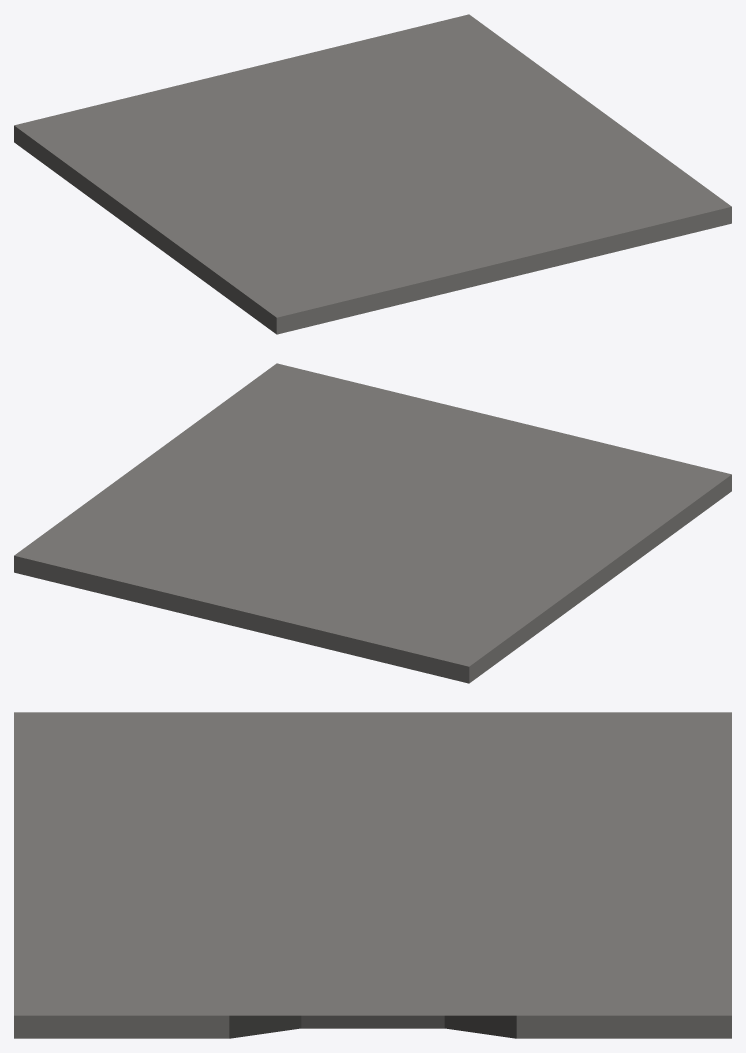
The model's file is Catacombs ceiling plane.fbx.
3 views of the same model, one above another, from view 1: azimuth 30°, elevation 25°; view 2: azimuth 150°, elevation 25°; view 3: azimuth 270°, elevation 25° (orthographic). The views are drawn at different scales.
Visible parts, largest first — view 1: Ceiling; view 2: Ceiling; view 3: Ceiling.
Part boxes in pixels (x1,y1,x2,y2): Ceiling: (14, 14, 731, 334); Ceiling: (14, 363, 731, 683); Ceiling: (14, 712, 731, 1038).
Bounding box in the file's own units: 20.48 × 0.727 × 20.48.
